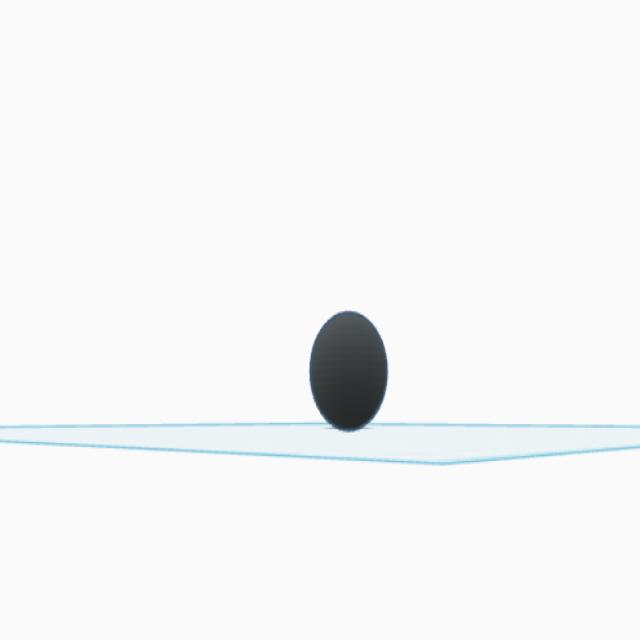sphere: (307, 306, 390, 436)
